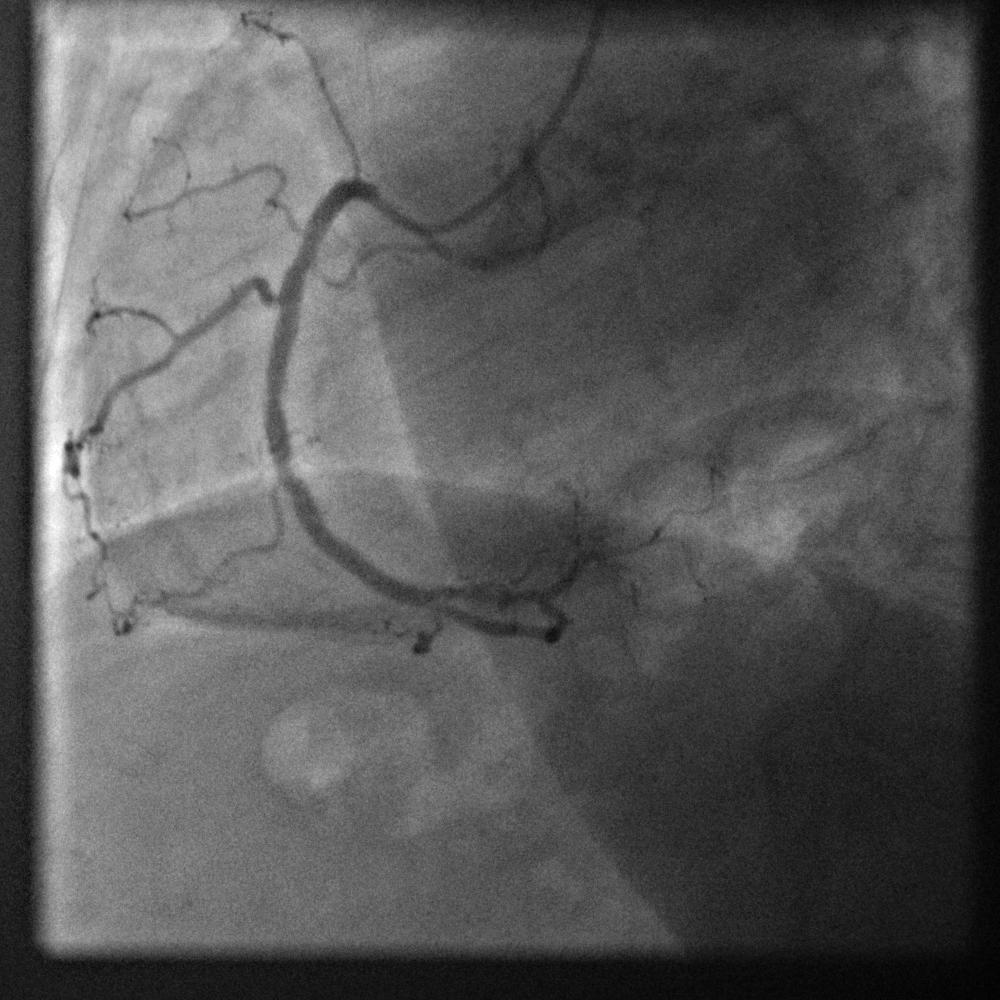Stenosis: (290, 216, 322, 268)
